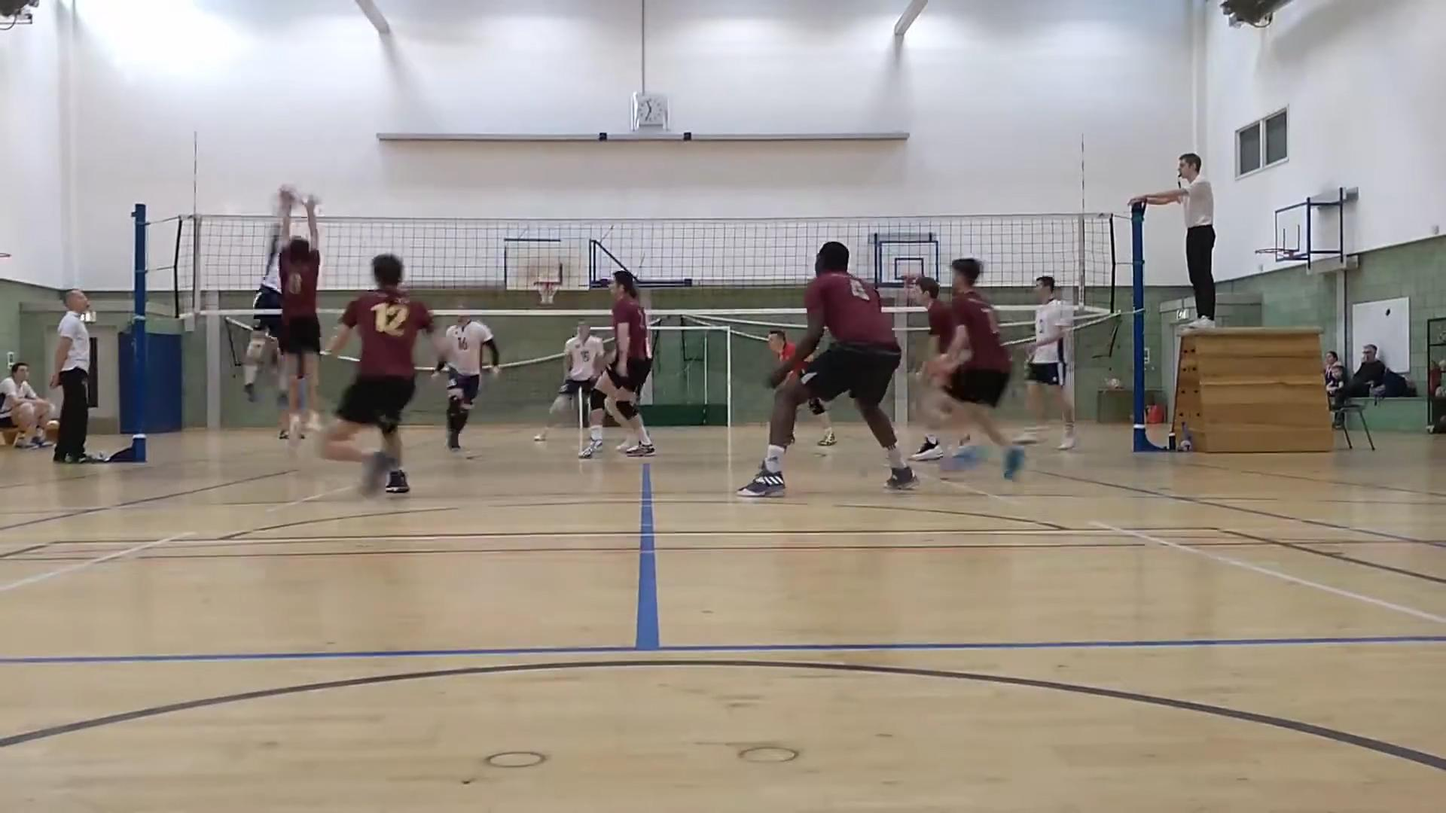attacco: (242, 178, 297, 403)
muro: (272, 194, 338, 440)
